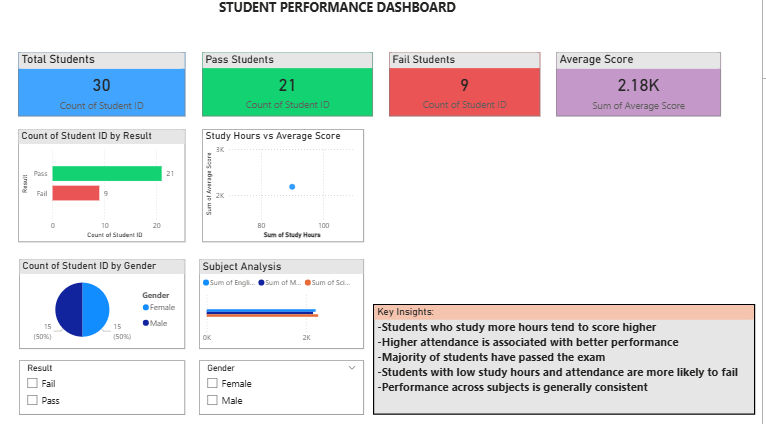

What the dashboard file says about the page in this screenshot:
{"tool":"powerbi","page":{"name":"Page 1","canvas":[1280,720],"ordinal":0},"visuals":[{"type":"card","title":"Total Students","fields":{"Values":["CountNonNull(cleaned_student_data.Student ID)"]},"box":[30.2,95.7,280.5,107.5],"z":0},{"type":"card","title":"Average Score","fields":{"Values":["Sum(cleaned_student_data.Average Score)"]},"box":[934,95.7,277.2,107.5],"z":1000},{"type":"card","title":"Pass Students","fields":{"Values":["CountNonNull(cleaned_student_data.Student ID)"]},"box":[339.3,95.7,287.2,107.5],"z":2000},{"type":"clusteredBarChart","fields":{"Category":["cleaned_student_data.Result"],"Y":["CountNonNull(cleaned_student_data.Student ID)"]},"box":[30.2,225.1,280.5,189.8],"z":3000},{"type":"scatterChart","title":"Study Hours vs Average Score","fields":{"X":["Sum(cleaned_student_data.Study Hours)"],"Y":["Sum(cleaned_student_data.Average Score)"]},"box":[339.3,225.1,272.1,189.8],"z":4000},{"type":"pieChart","fields":{"Category":["cleaned_student_data.Gender"],"Y":["CountNonNull(cleaned_student_data.Student ID)"]},"box":[31.9,443.5,278.8,151.2],"z":5000},{"type":"slicer","fields":{"Values":["cleaned_student_data.Gender"]},"box":[334.3,613.1,277.2,92.4],"z":6000},{"type":"slicer","fields":{"Values":["cleaned_student_data.Result"]},"box":[31.9,613.1,278.8,92.4],"z":7000},{"type":"card","title":"Fail Students","fields":{"Values":["CountNonNull(cleaned_student_data.Student ID)"]},"box":[653.4,95.7,253.6,107.5],"z":8000},{"type":"clusteredBarChart","title":"Subject Analysis","fields":{"Y":["Sum(cleaned_student_data.English Score)","Sum(cleaned_student_data.Math Score)","Sum(cleaned_student_data.Science Score)"]},"box":[334.3,443.5,277.2,151.2],"z":9000},{"type":"textbox","box":[362,0,556,82.3],"z":10000},{"type":"textbox","title":"Key Insights:","box":[626.6,519.1,641.7,186.5],"z":11000}]}

Visuals, with their boxes in screenshot pixels (x1, y1, x2, y2), scaled from the page's 1280x720 canvas onto the 766x424 screenshot:
"Total Students" card: 18, 56, 186, 120
"Average Score" card: 559, 56, 725, 120
"Pass Students" card: 203, 56, 375, 120
clusteredBarChart - cleaned_student_data.Result x CountNonNull(cleaned_student_data.Student ID): 18, 133, 186, 244
"Study Hours vs Average Score" scatterChart: 203, 133, 366, 244
pieChart - cleaned_student_data.Gender x CountNonNull(cleaned_student_data.Student ID): 19, 261, 186, 350
slicer - cleaned_student_data.Gender: 200, 361, 366, 415
slicer - cleaned_student_data.Result: 19, 361, 186, 415
"Fail Students" card: 391, 56, 543, 120
"Subject Analysis" clusteredBarChart: 200, 261, 366, 350
textbox: 217, 0, 549, 48
"Key Insights:" textbox: 375, 306, 759, 416
